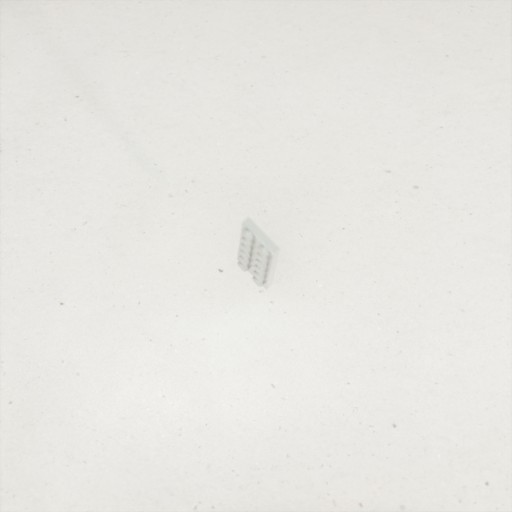lego: (237, 216, 280, 290)
